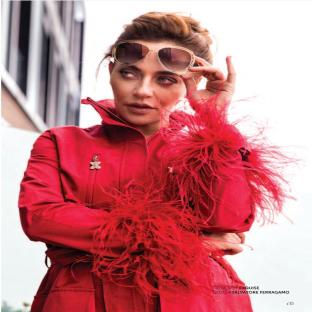Human: (18, 12, 285, 312)
